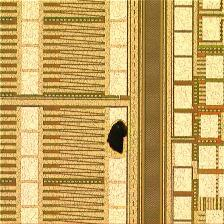PARTICLE: (107, 119, 131, 156)
